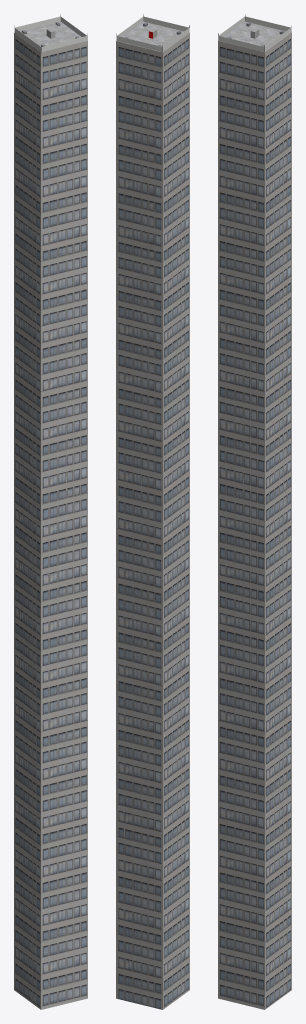
Rendered from Building 7.fbx.
3 renders of one model, left to right at view 1: azimuth 30°, elevation 25°; view 2: azimuth 150°, elevation 25°; view 3: azimuth 330°, elevation 25°, orthographic.
Visible parts, largest first — view 1: Buidling_7; view 2: Buidling_7; view 3: Buidling_7.
Part boxes in pixels (<box>): Buidling_7: <box>14,14,87,1009</box>; Buidling_7: <box>116,14,189,1009</box>; Buidling_7: <box>218,14,291,1009</box>.
Size of the model in its own units: 21.51 by 425 by 21.52.
Materials: 8 (6 with a texture image).
